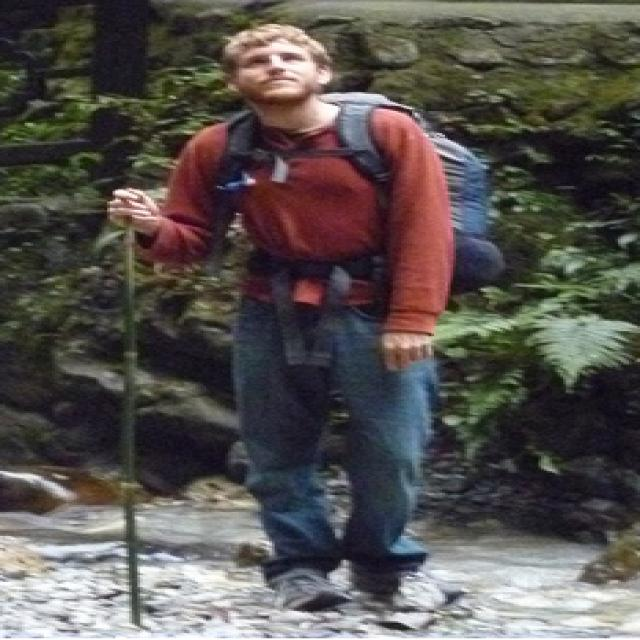standing: (110, 22, 458, 609)
